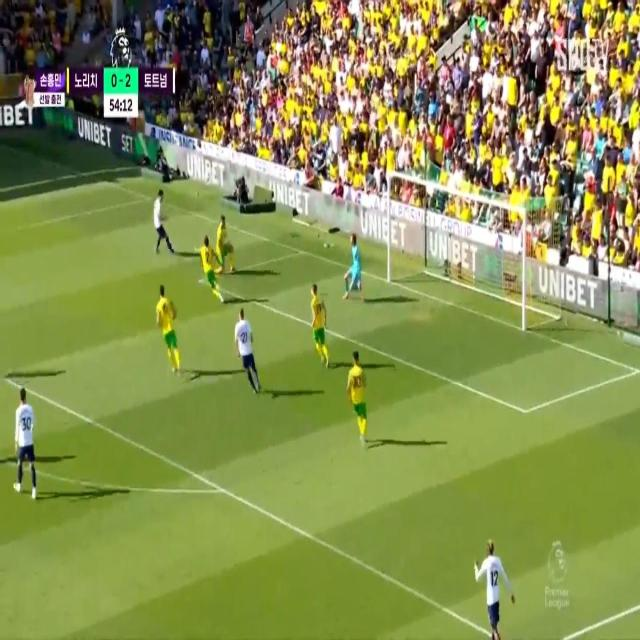player: (13, 383, 42, 500), (485, 536, 505, 636), (235, 308, 257, 396), (347, 355, 368, 437), (308, 288, 328, 365), (153, 188, 174, 256), (158, 286, 176, 365), (200, 234, 220, 298), (215, 211, 233, 272)
